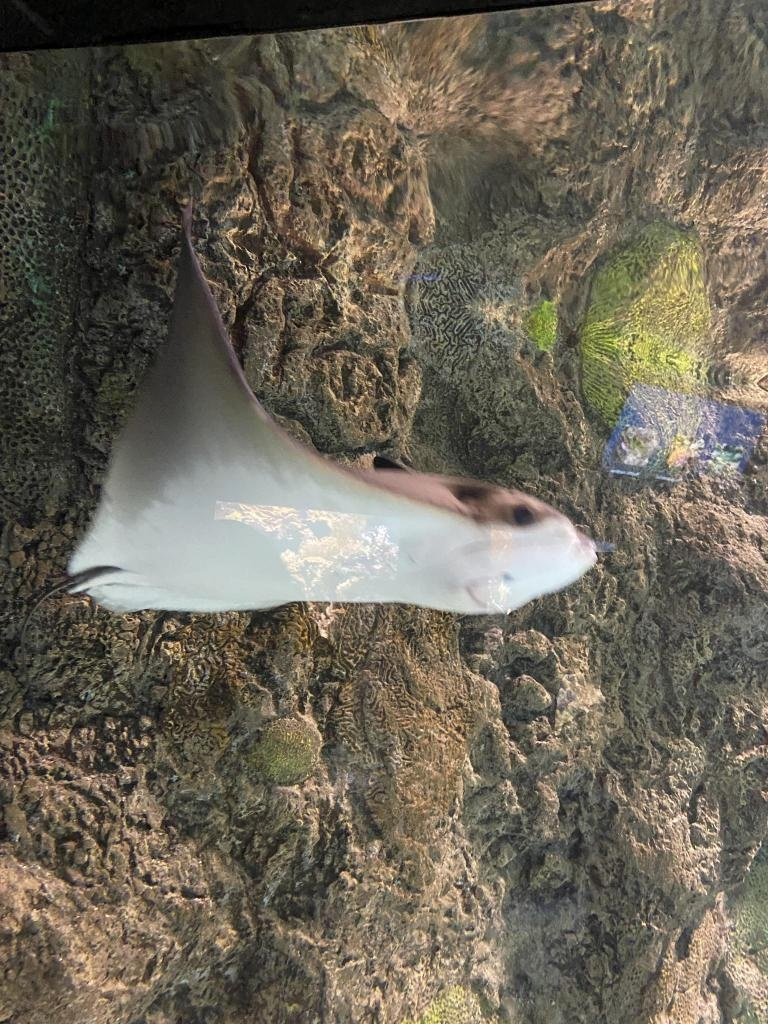stingray: (72, 182, 598, 614)
